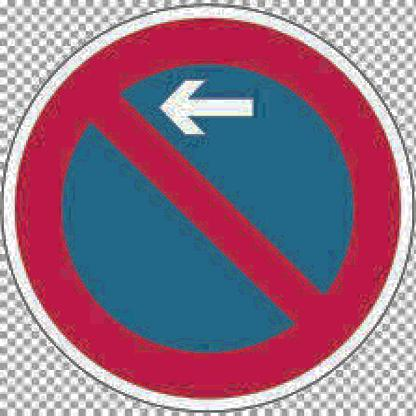No parking: (11, 4, 416, 415)
